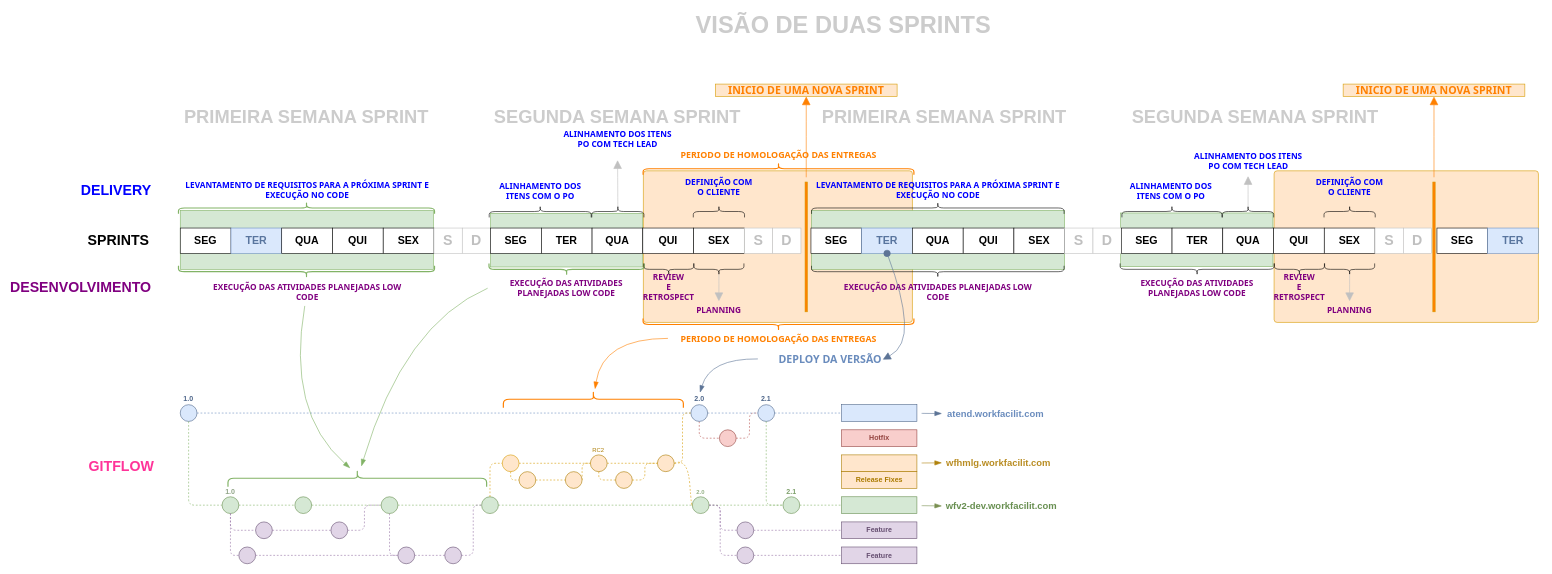
The diagram is 1552 pixels wide and 574 high, and some of its shapes have lost their labels. Here are the shapes that lost their labels. From the top down, the centre of each, then its label:
At pixel 879 412: "Main".
At pixel 510 463: "RC1".
At pixel 665 463: "RC3".
At pixel 879 463: "Release".
At pixel 879 505: "Development".
